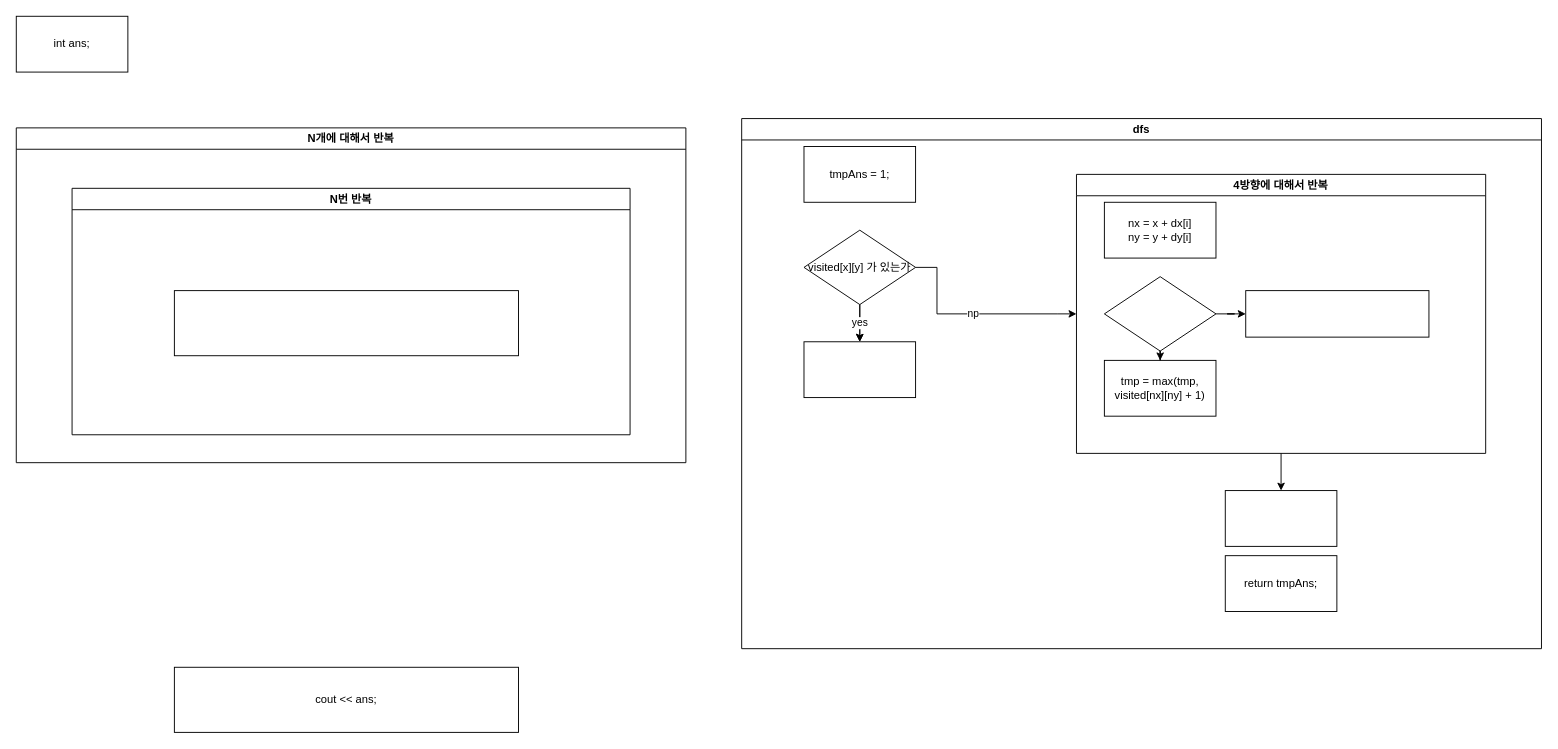
The diagram is 1558 pixels wide and 749 high, and some of its shapes have lost their labels. Each missing label, with the centre of its shape:
"ans = max(dfs(matrix[x], matrix[y], ans);" goes at point 345,323.
"return visited[x][y]" goes at point 859,369.
"tmpAns = max(1 + dfs(nx, ny))" goes at point 1337,313.
"visited[nx][ny] 가 있는가" goes at point 1159,313.
"visited[x][y] = tmpAns;" goes at point 1280,518.
